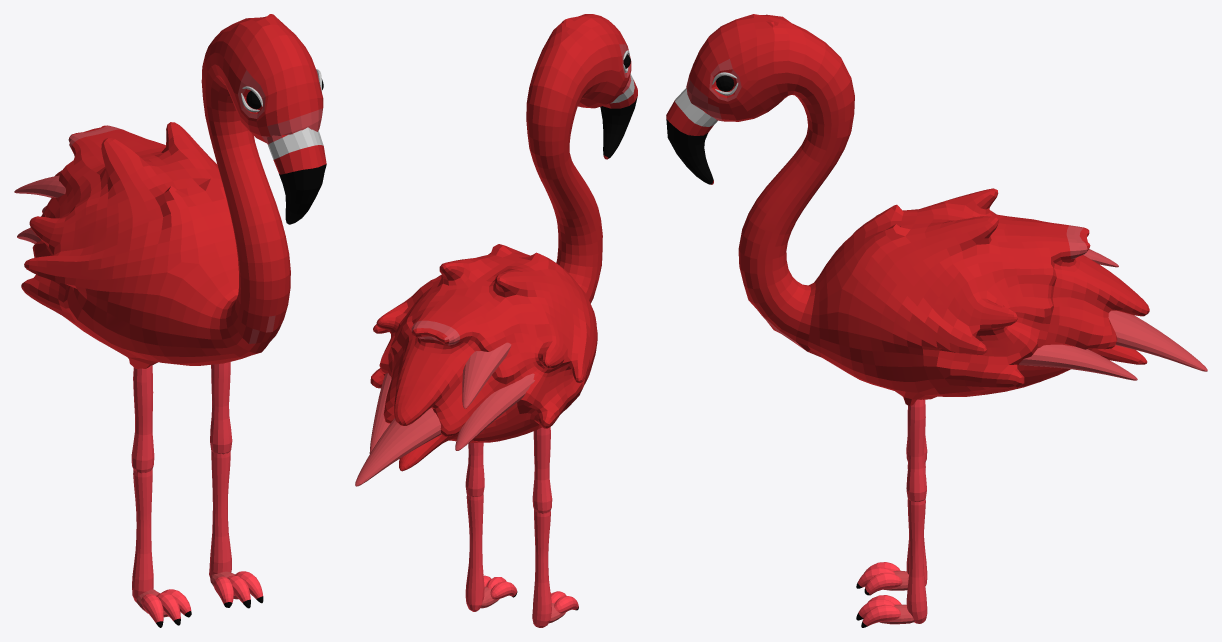
The model's file is flamenco.gltf.
3 renders of one model, left to right at view 1: azimuth 30°, elevation 25°; view 2: azimuth 150°, elevation 25°; view 3: azimuth 270°, elevation 25°, orthographic. The views are drawn at different scales.
Visible parts, largest first — view 1: flamenco; view 2: flamenco; view 3: flamenco.
Part boxes in pixels (x1=…): flamenco: x1=14, y1=14, x2=326, y2=627; flamenco: x1=355, y1=14, x2=637, y2=627; flamenco: x1=666, y1=14, x2=1207, y2=627.
Size of the model in its own units: 2.18 by 5.44 by 4.53.
